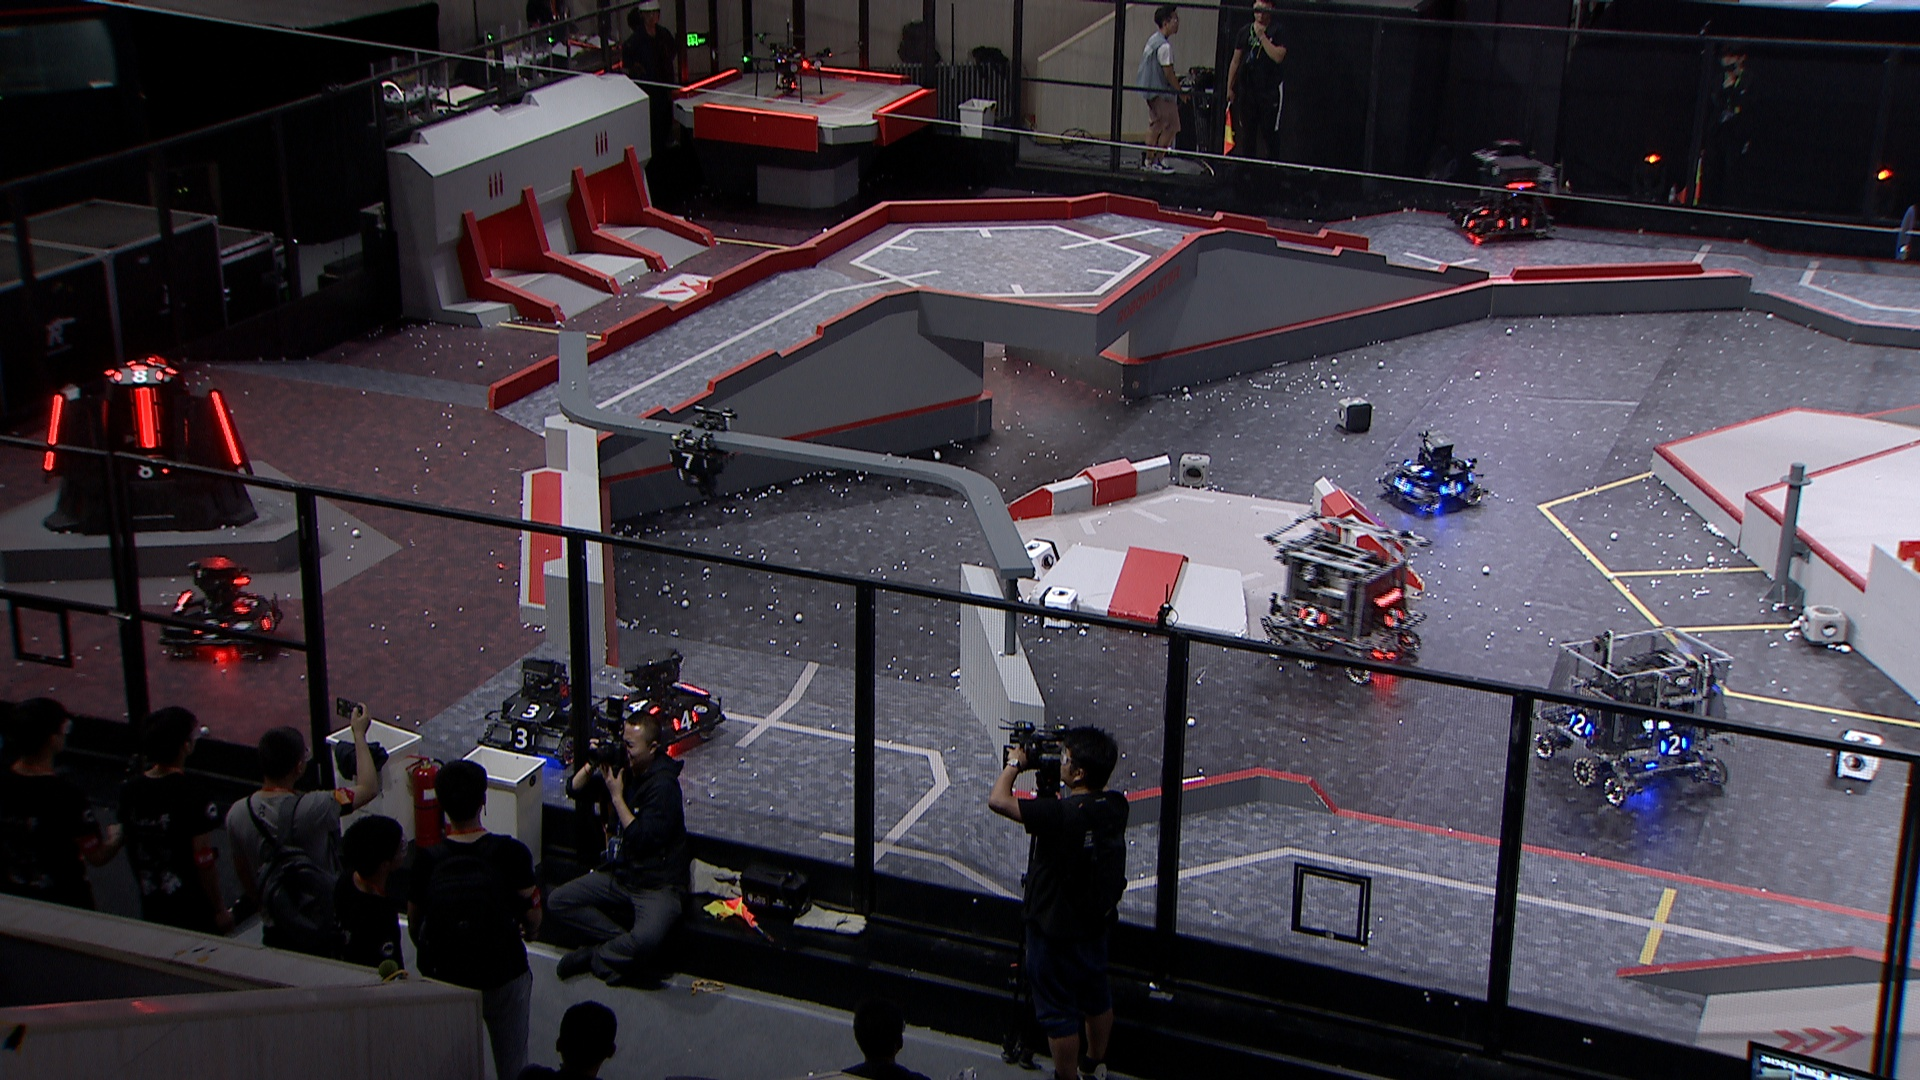armor: (206, 386, 247, 469), (131, 385, 162, 450), (41, 392, 65, 471), (510, 700, 556, 723), (190, 618, 229, 644), (618, 694, 659, 716), (667, 451, 712, 471), (1565, 711, 1594, 740), (111, 367, 164, 382), (229, 588, 261, 615), (127, 460, 171, 479), (1656, 733, 1692, 756), (505, 725, 537, 749), (669, 707, 698, 731), (1298, 605, 1328, 628), (1400, 456, 1432, 477), (1495, 214, 1528, 232), (1381, 607, 1404, 632), (1437, 477, 1465, 496), (1453, 210, 1477, 229), (98, 398, 109, 433), (261, 608, 278, 632), (1393, 475, 1414, 493), (1466, 200, 1491, 214), (183, 418, 191, 447)
base: (34, 353, 262, 533)
car: (1531, 622, 1737, 808), (1261, 506, 1427, 684), (477, 655, 605, 771), (599, 647, 727, 756), (158, 556, 281, 666), (1447, 138, 1557, 244), (1375, 425, 1485, 514)
watcher: (665, 401, 741, 500)
